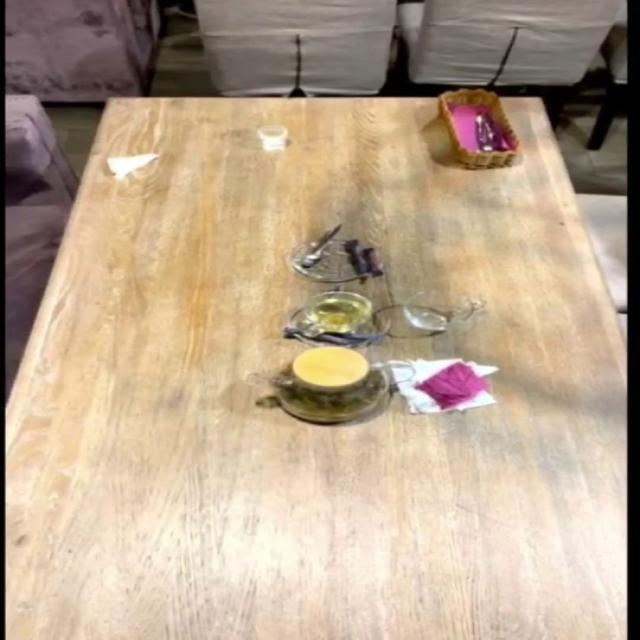tea: (268, 346, 389, 424)
